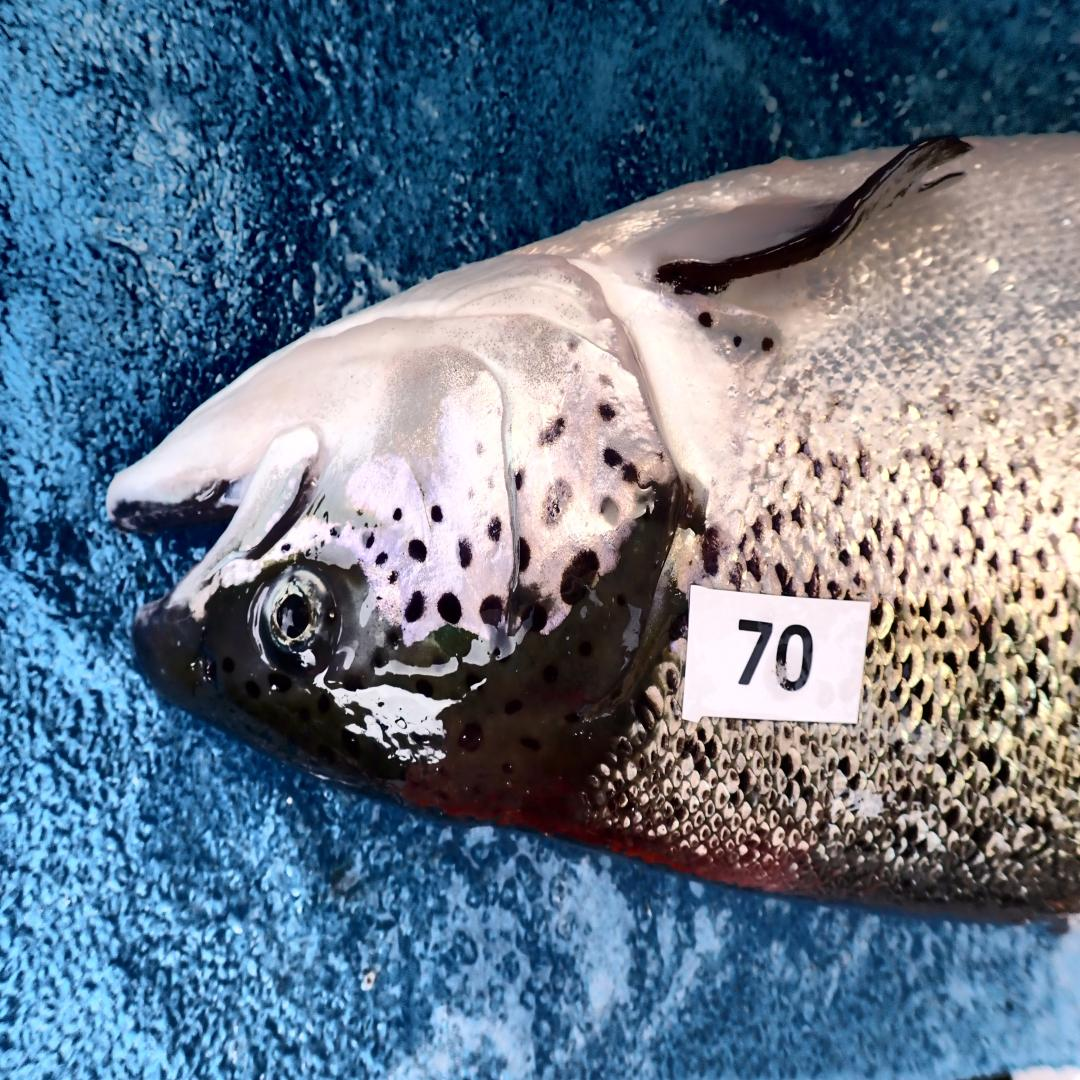spot: (561, 551, 599, 605), (539, 479, 572, 526), (520, 604, 548, 632), (539, 418, 565, 448), (437, 594, 462, 624), (479, 596, 502, 626), (404, 591, 424, 622), (601, 498, 620, 526), (407, 539, 428, 563), (519, 537, 532, 571), (456, 541, 472, 567), (603, 448, 622, 469), (486, 517, 501, 542), (622, 462, 639, 482), (598, 402, 615, 420), (430, 503, 443, 523), (598, 372, 613, 387), (362, 531, 374, 548), (375, 552, 388, 566), (515, 469, 523, 490), (388, 570, 398, 585), (476, 442, 486, 457), (330, 526, 341, 538), (392, 508, 402, 520), (568, 339, 577, 351), (467, 488, 475, 500), (488, 476, 496, 487), (656, 452, 664, 463), (573, 362, 579, 374), (357, 510, 363, 516), (364, 523, 368, 528), (374, 523, 377, 528), (377, 597, 382, 600)
